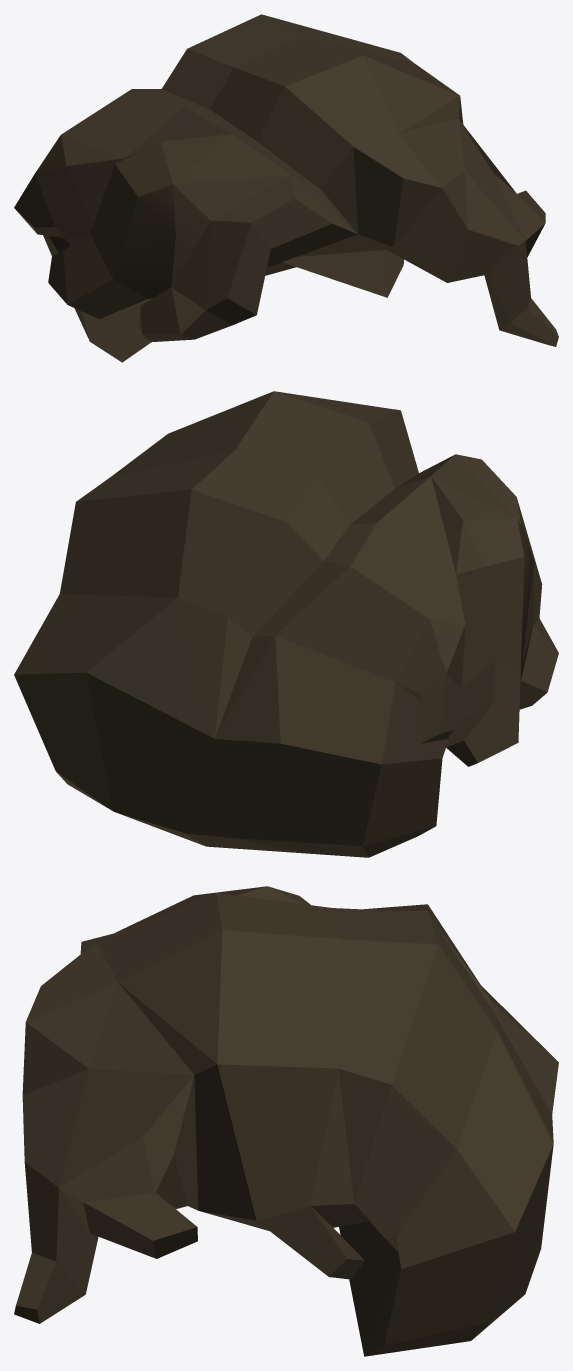
File: SM_Chr_Attach_Hair_Male_07.fbx
3 renders of one model, top to bottom at view 1: azimuth 30°, elevation 25°; view 2: azimuth 150°, elevation 25°; view 3: azimuth 270°, elevation 25°, orthographic. The views are drawn at different scales.
Parts seen in each view (by area): view 1: SM_Chr_Attach_Hair_Male_07; view 2: SM_Chr_Attach_Hair_Male_07; view 3: SM_Chr_Attach_Hair_Male_07.
Part boxes in pixels (left/top/right/bottom): SM_Chr_Attach_Hair_Male_07: left=14, top=14, right=558, bottom=362; SM_Chr_Attach_Hair_Male_07: left=14, top=391, right=558, bottom=857; SM_Chr_Attach_Hair_Male_07: left=14, top=886, right=558, bottom=1356.
Bounding box in the file's own units: 33.59 × 24.01 × 31.18.
